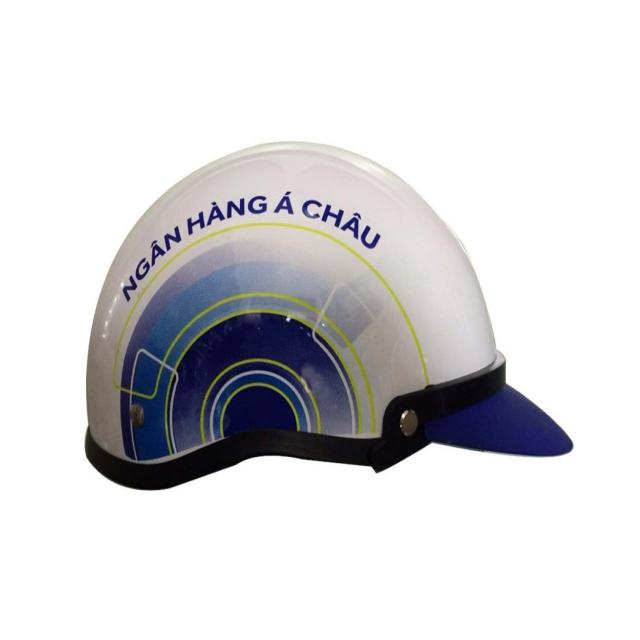1-2-helmet: (84, 143, 574, 491)
